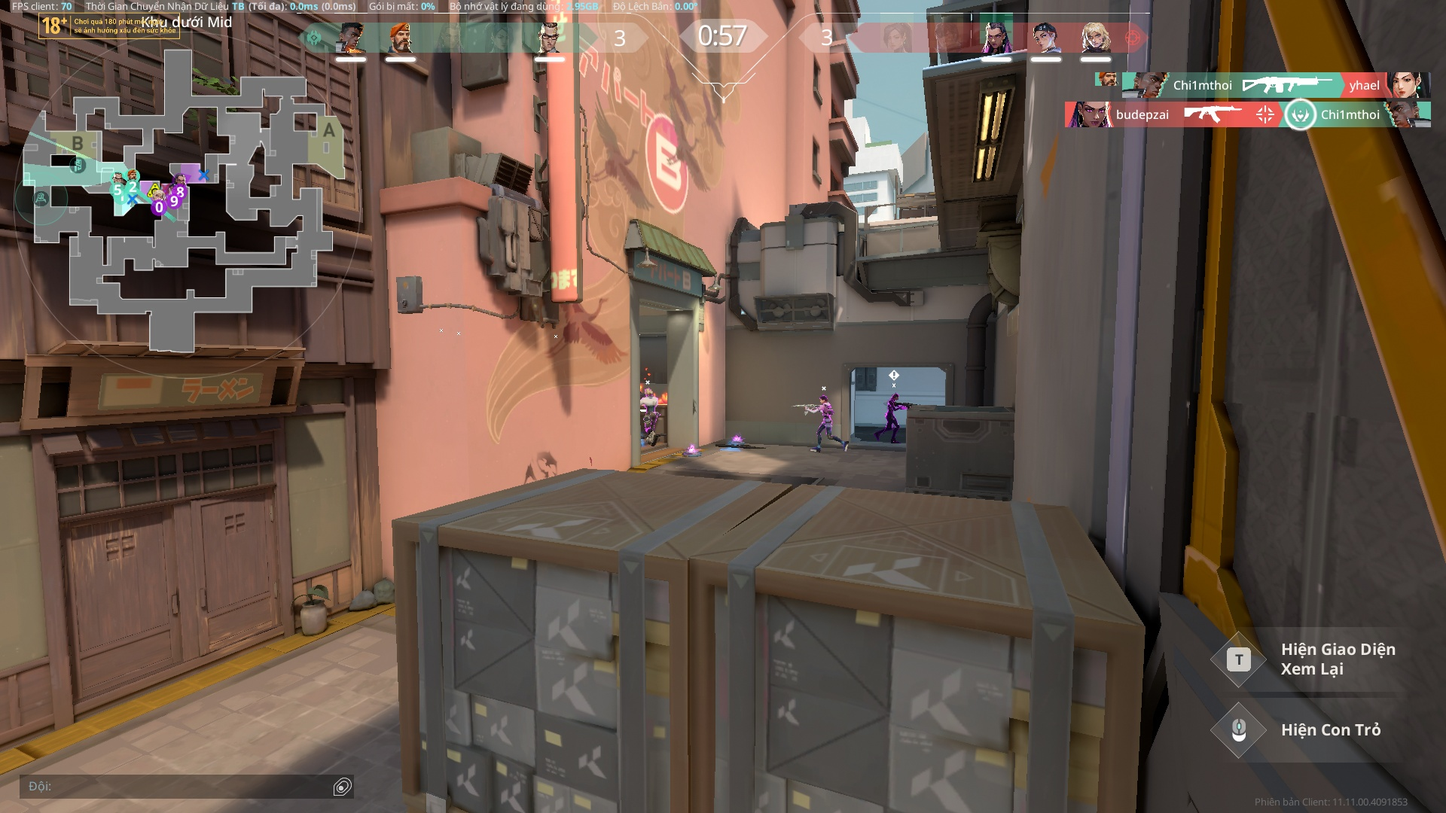body: (817, 403, 834, 421), (644, 394, 657, 415), (886, 398, 897, 416)
head: (819, 395, 828, 403), (644, 388, 653, 396), (891, 392, 898, 400)
